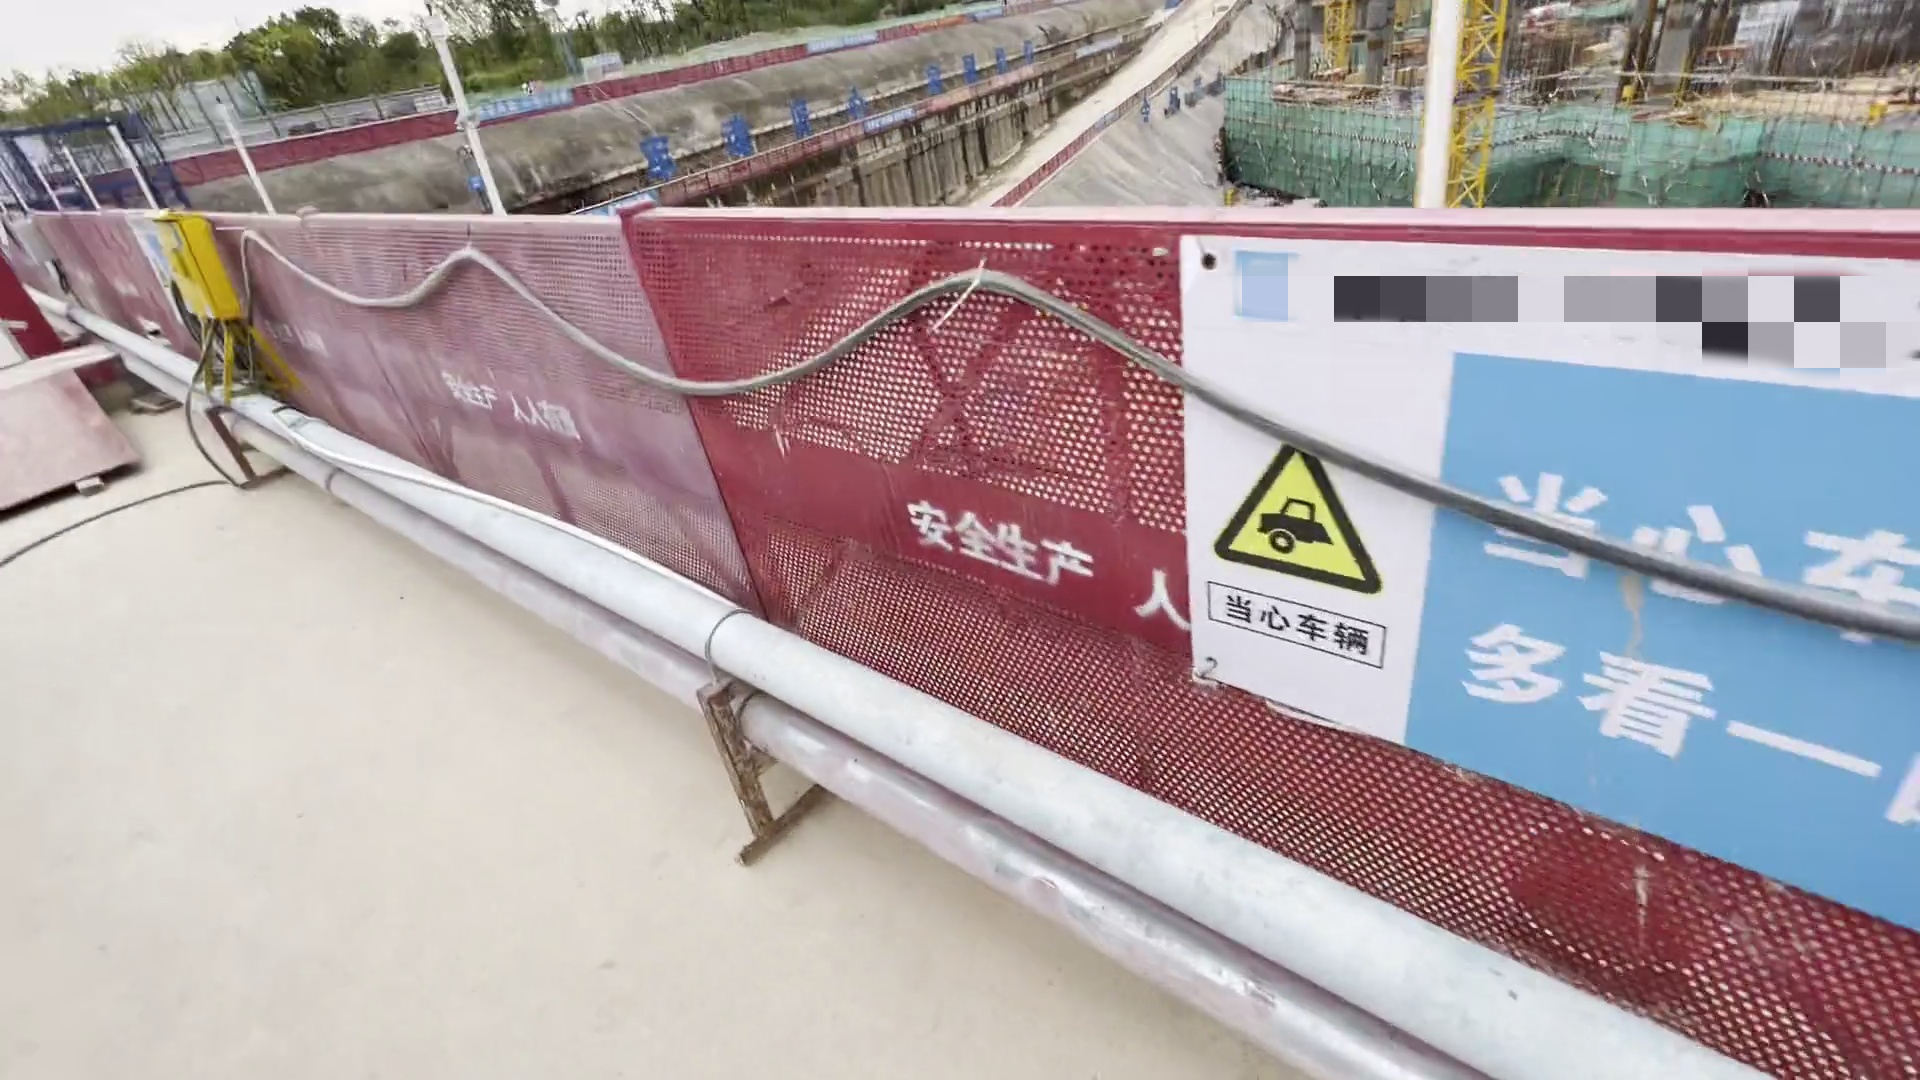board: (1, 363, 153, 524)
ebox: (119, 200, 273, 407)
fence: (753, 189, 1920, 1080), (3, 207, 764, 632), (157, 111, 484, 185), (613, 141, 851, 216)
slogan: (1141, 215, 1920, 949), (472, 80, 583, 120), (856, 104, 927, 149)
